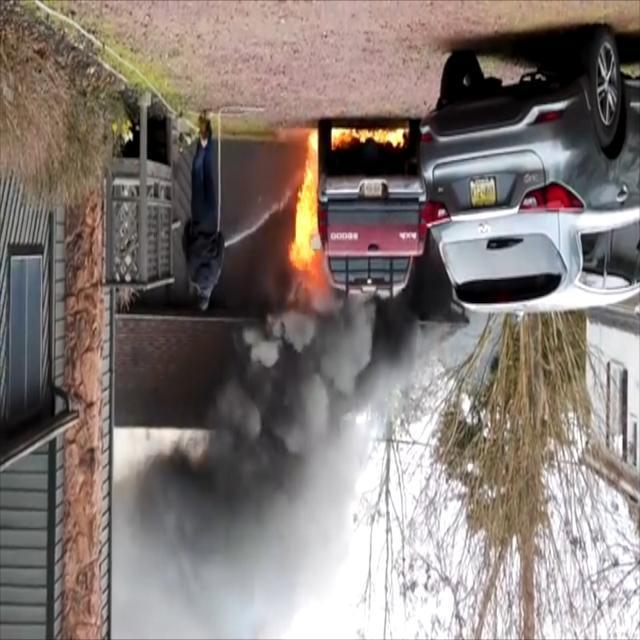fire: (284, 130, 329, 298), (328, 118, 411, 156)
